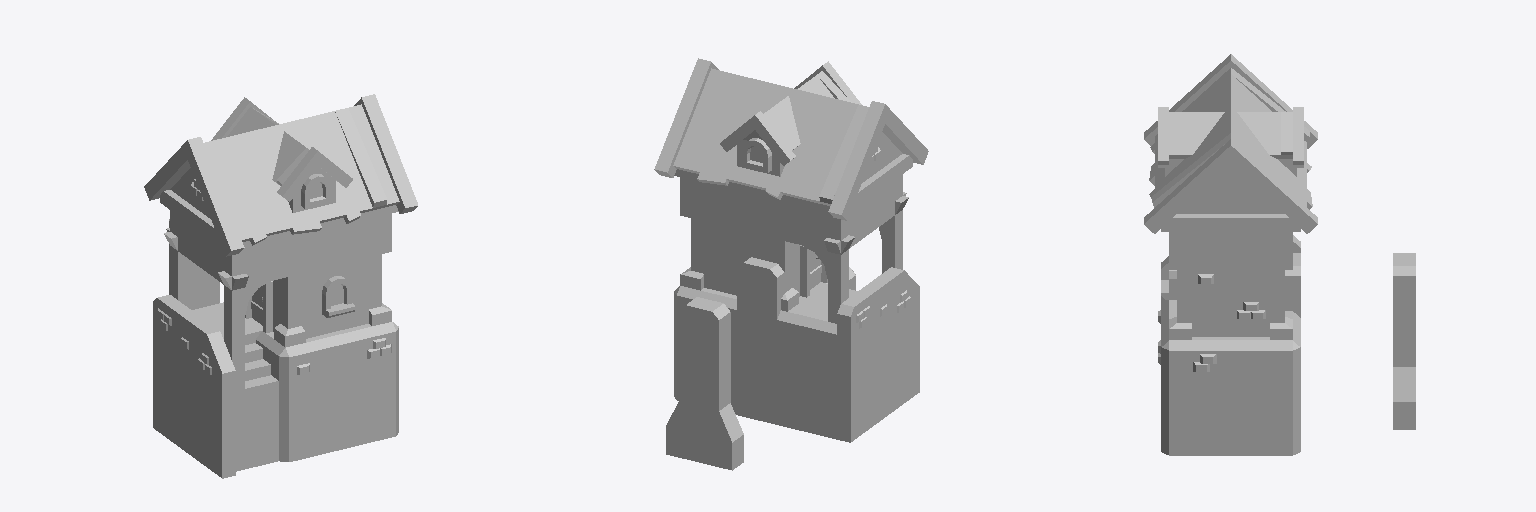
Rendered from building_watermill_red.obj.
The picture shows the model from 3 angles: view 1: azimuth 30°, elevation 25°; view 2: azimuth 150°, elevation 25°; view 3: azimuth 270°, elevation 25°; orthographic projection.
Parts seen in each view (by area): view 1: building_watermill_red; view 2: building_watermill_red; view 3: building_watermill_red.
Boxes of the visible parts, box(x1,y1,x2,y2) form: building_watermill_red: box(144, 94, 417, 478); building_watermill_red: box(654, 58, 928, 470); building_watermill_red: box(1144, 54, 1415, 455).
Size of the model in its own units: 0.9887 by 1.57 by 1.24.